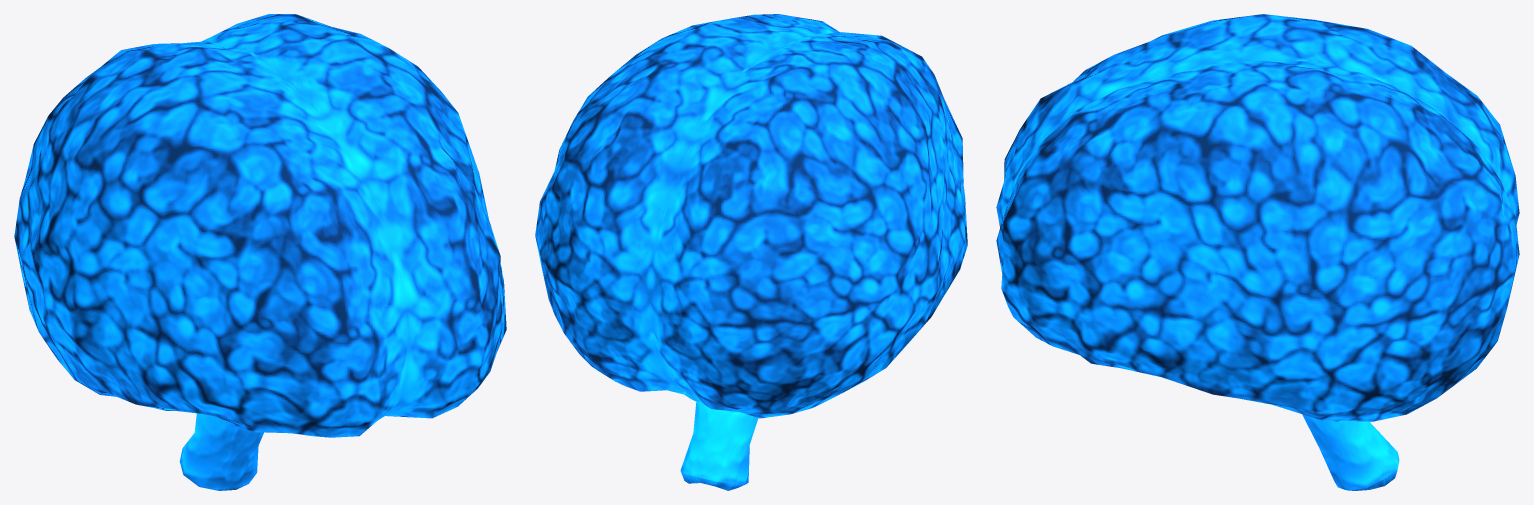
Rendered from dawta_node.glb.
The picture shows the model from 3 angles, left to right: view 1: azimuth 30°, elevation 25°; view 2: azimuth 150°, elevation 25°; view 3: azimuth 270°, elevation 25°; orthographic projection. The views are drawn at different scales.
Parts seen in each view (by area): view 1: Object_2; view 2: Object_2; view 3: Object_2.
Boxes of the visible parts, x1,y1,x2,y2 form: Object_2: (14,14,506,490); Object_2: (535,14,967,490); Object_2: (996,14,1519,490).
Size of the model in its own units: 13.14 by 14.49 by 15.84.
Materials: 1 (1 with a texture image).
